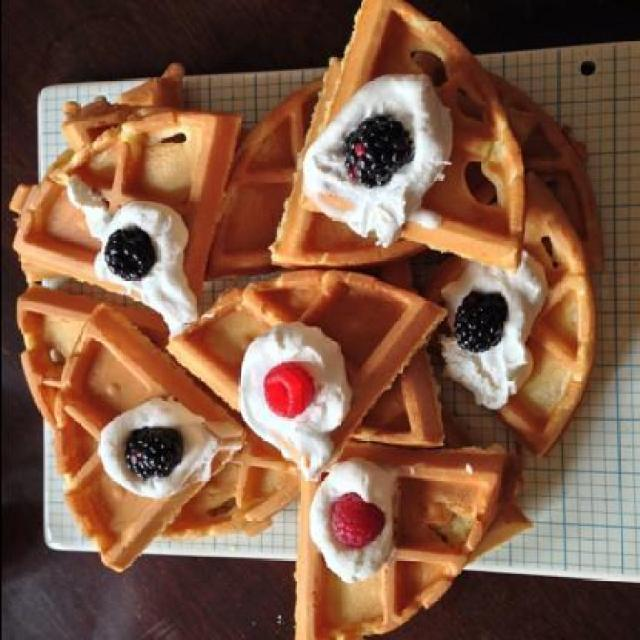Waffle: (6, 0, 604, 638)
